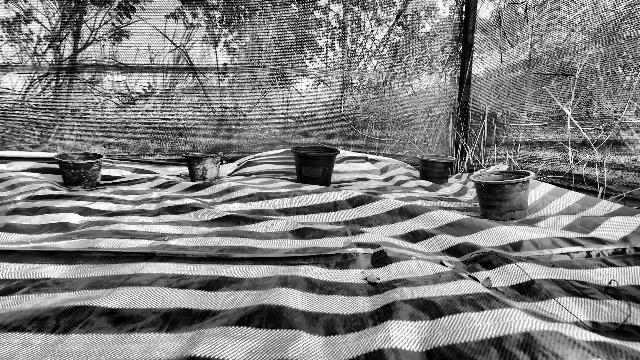pot: (468, 167, 536, 221), (52, 150, 106, 188), (291, 146, 340, 187), (417, 154, 458, 186), (181, 151, 223, 181)
